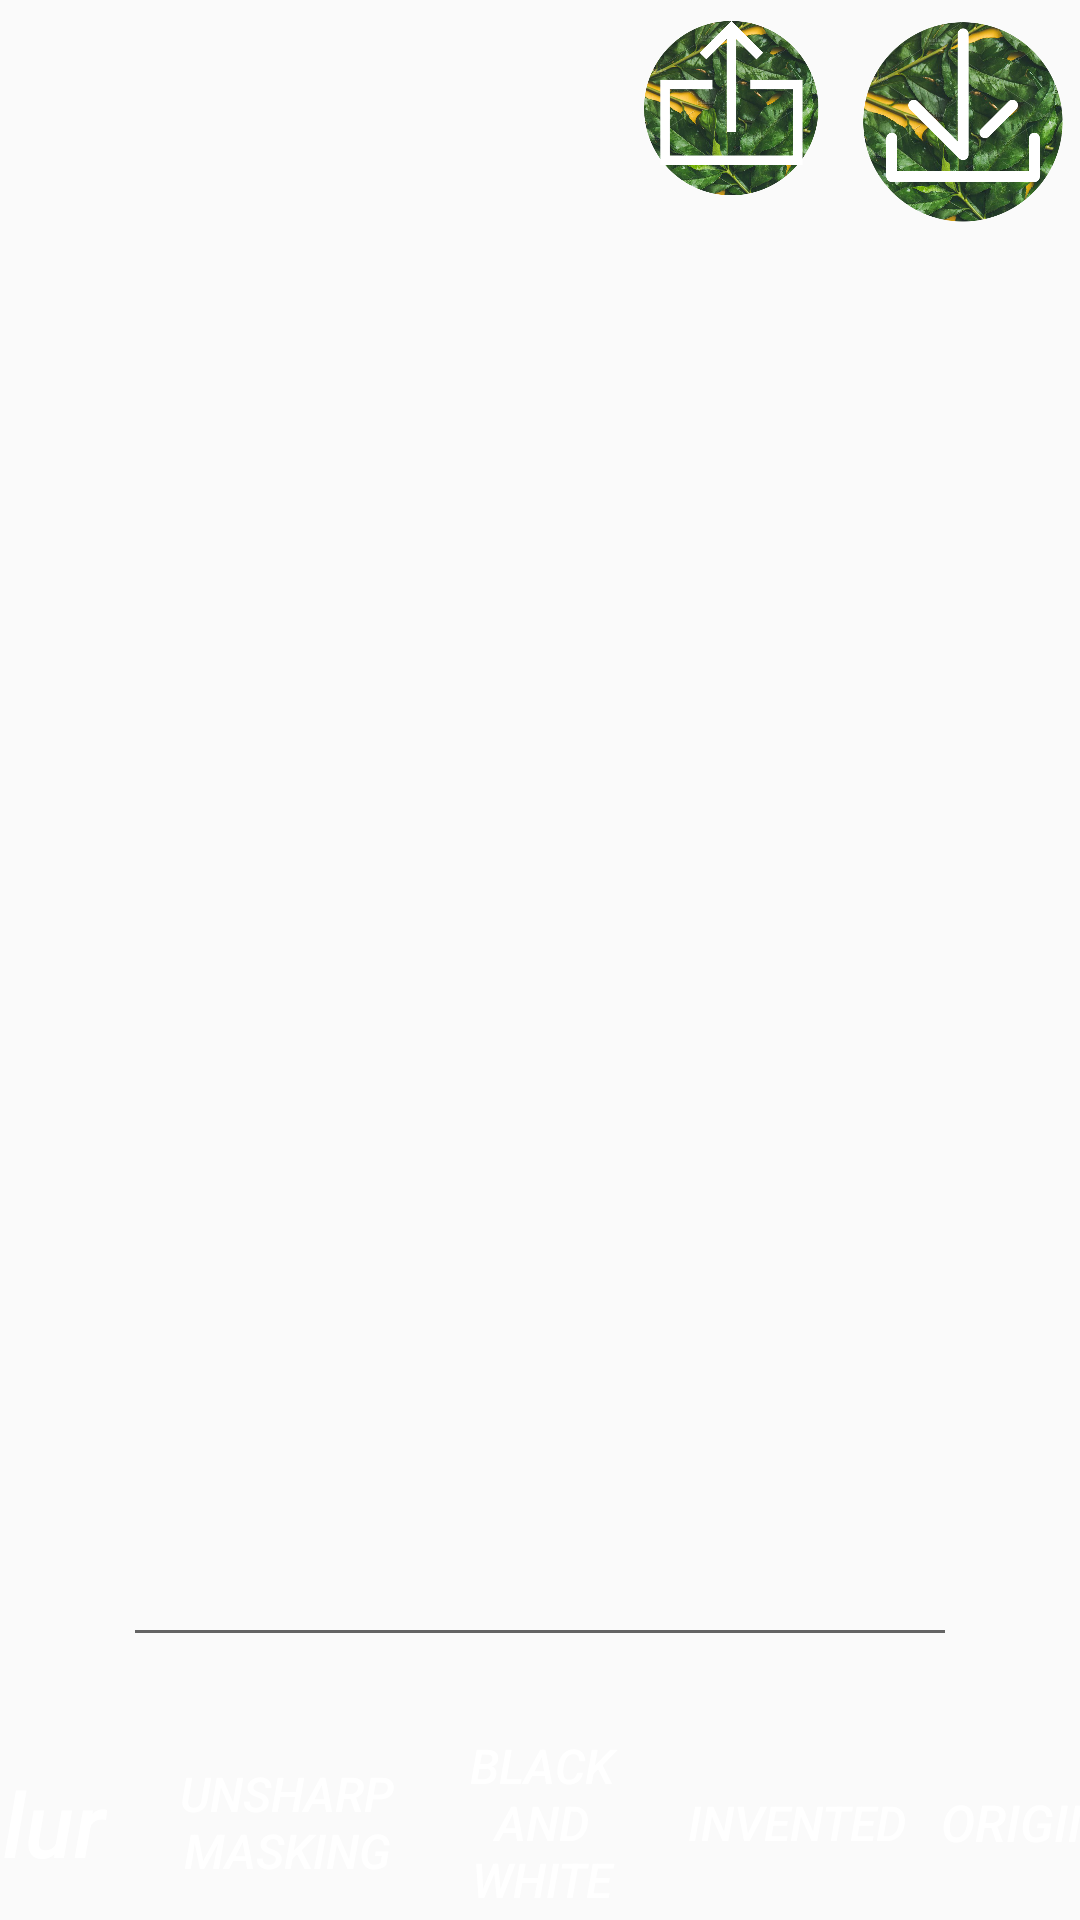

Screen size 1080 × 1920. Icon name, then its box in pixels as (x1, y1, x2, y2):
upl: (644, 21, 819, 195)
